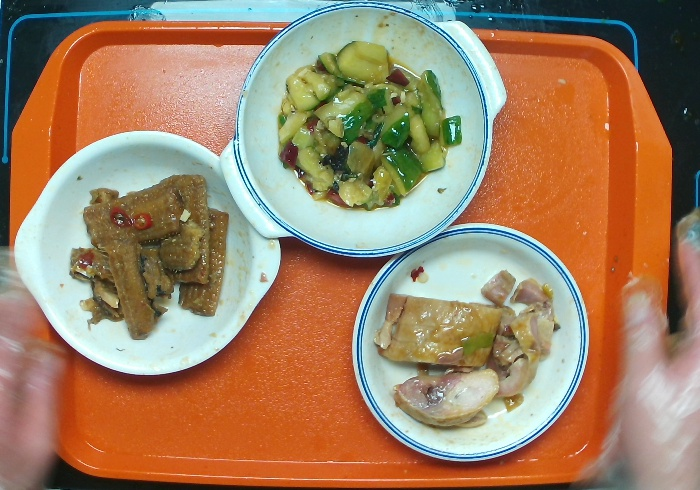HZYJPL-Dai_Er_Bai_Yuan_Wan: (8, 126, 286, 388)
HZYJPL-Lan_Bian_Dai_Er_Wan: (213, 1, 515, 263)
HZYJPL-Lan_Bian_Yuan_Die: (341, 215, 599, 471)
